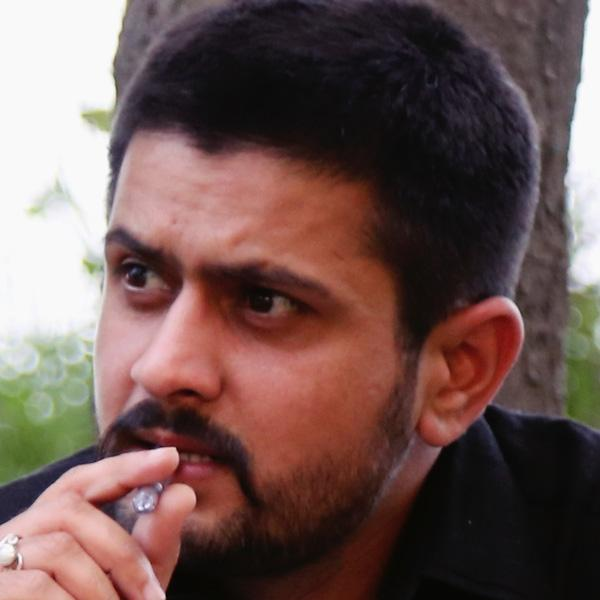Eyes: (215, 274, 320, 340), (106, 248, 182, 306)
